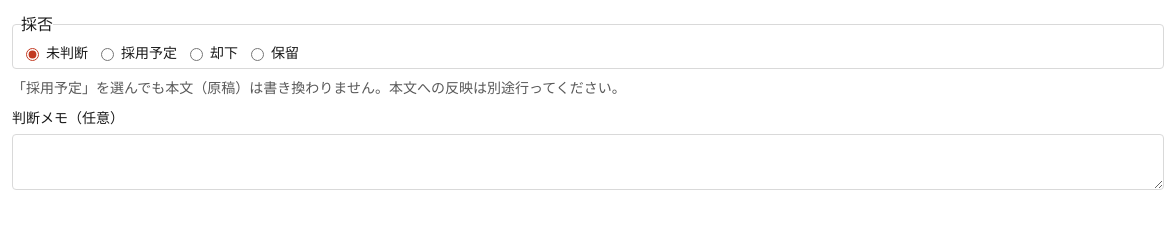
Scenario: JudgmentControl: 保存の直列化 › 保存中に続けて求められた保存は、最後のものだけを送る
Click the radio button labelled "却下": (196, 54) [190, 48, 203, 61]
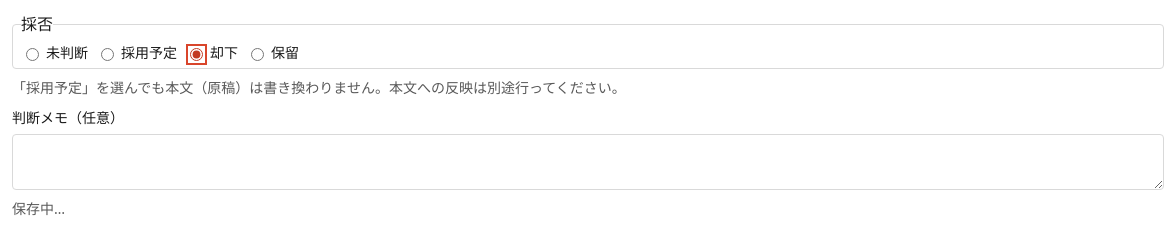
Click the radio button labelled "保留": (258, 54) [251, 48, 264, 61]
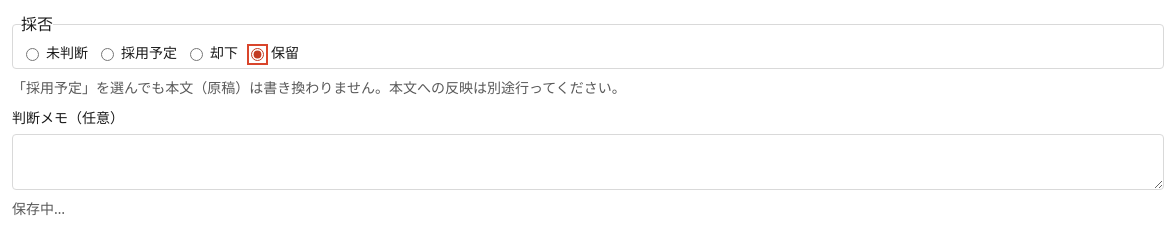
Click the radio button labelled "採用予定": (108, 54) [101, 48, 114, 61]
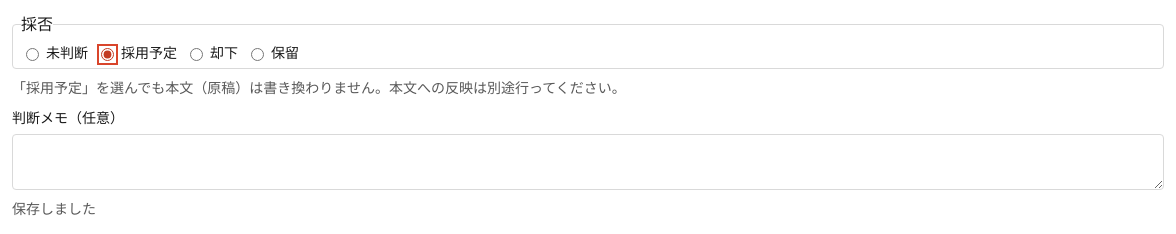
Check: the text "保存しました" is shown, box [12, 199, 96, 218]
